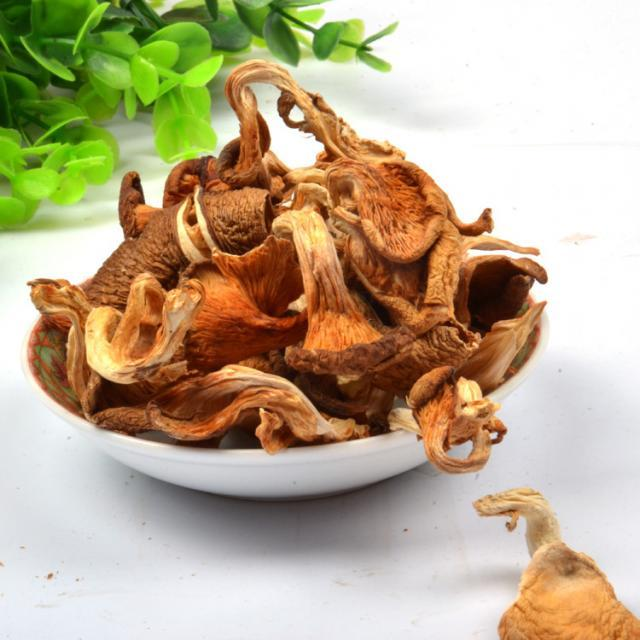Hypsizygus marmoreus: (26, 60, 550, 468), (477, 484, 640, 640)
